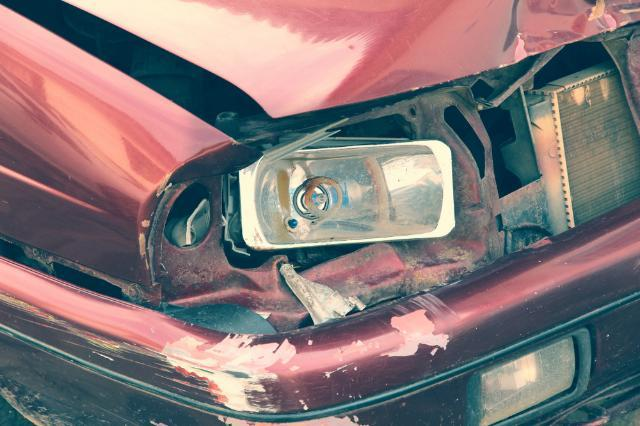dent: (494, 0, 640, 65)
dislocated part: (0, 0, 281, 146)
lamp broken: (160, 21, 640, 327)
scratch: (0, 290, 304, 412), (374, 293, 467, 367)
